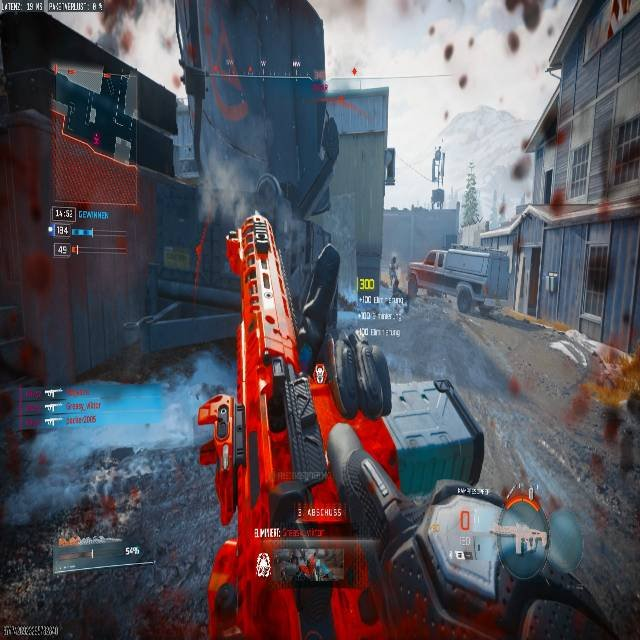player: (199, 345, 566, 640), (389, 256, 400, 290)
